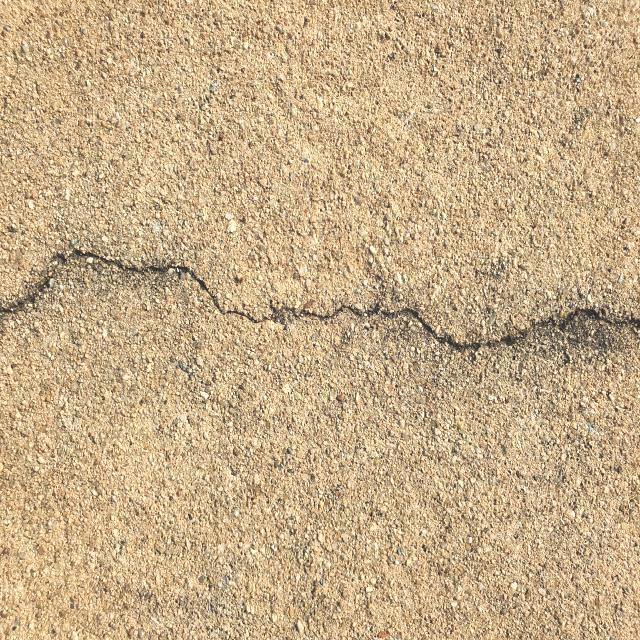SurfaceCrack: (1, 216, 640, 404)
